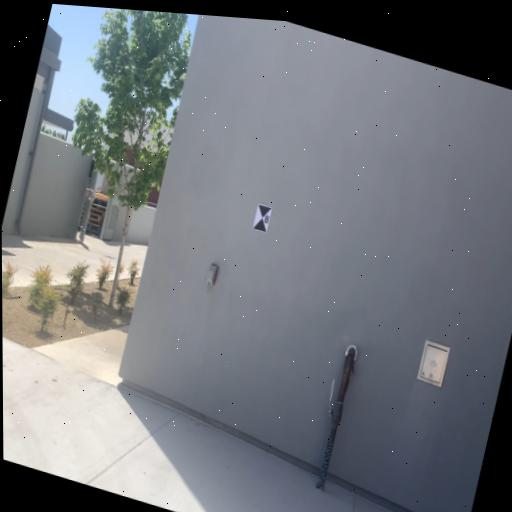target8: (252, 203, 273, 235)
